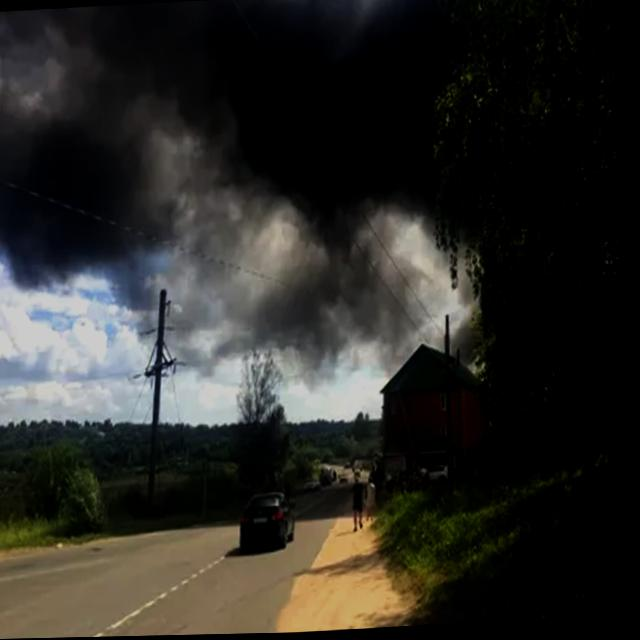no_helmet: (185, 0, 549, 368)
